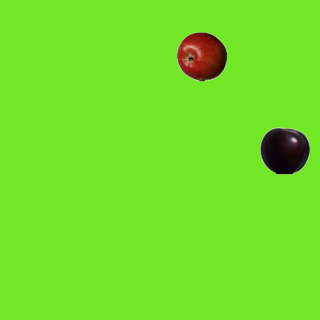Apple Braeburn: (176, 31, 226, 81)
Cherry Wax Black: (259, 125, 309, 175)
